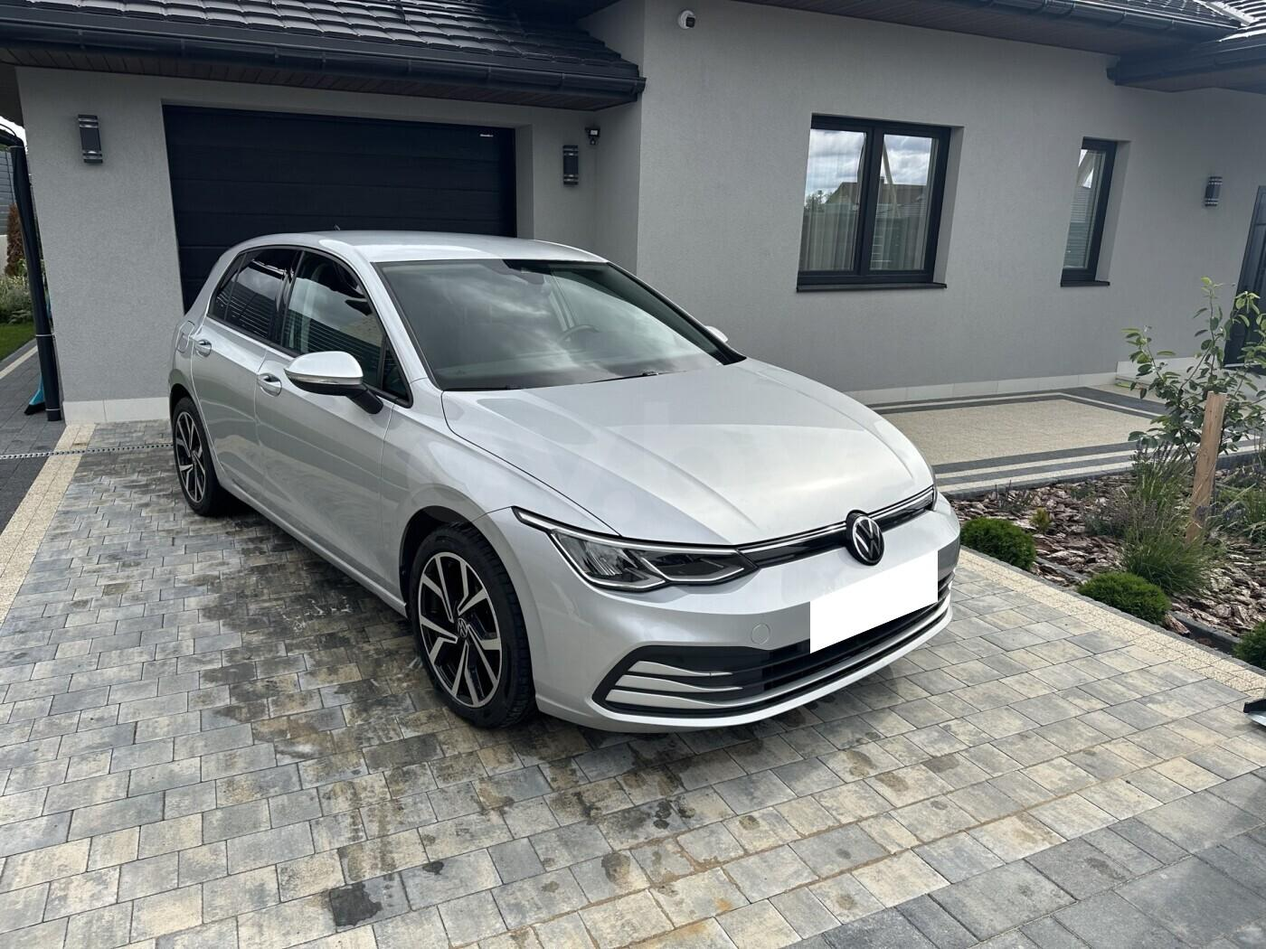Golf_2019: (160, 225, 965, 742)
